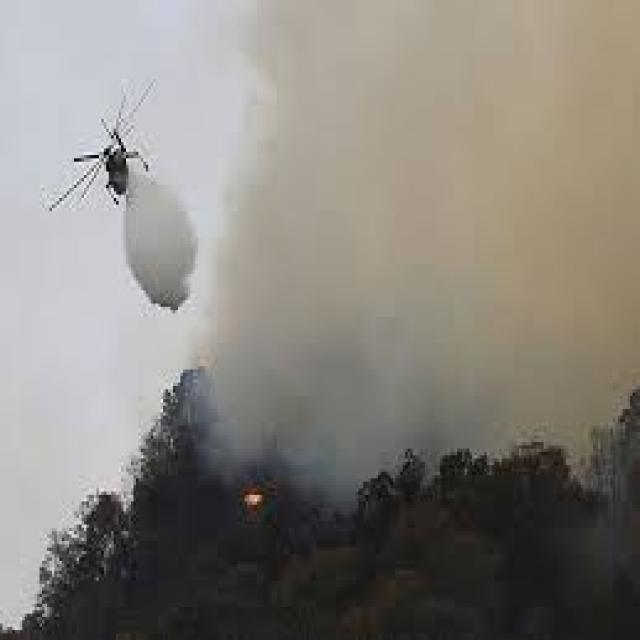Fire: (243, 483, 268, 516)
Smoke: (252, 58, 617, 402)
